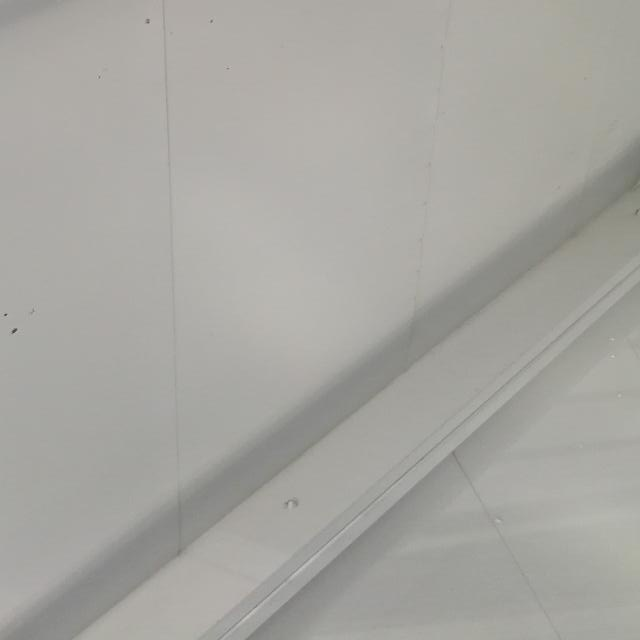fluorescent tube: (0, 0, 336, 232)
